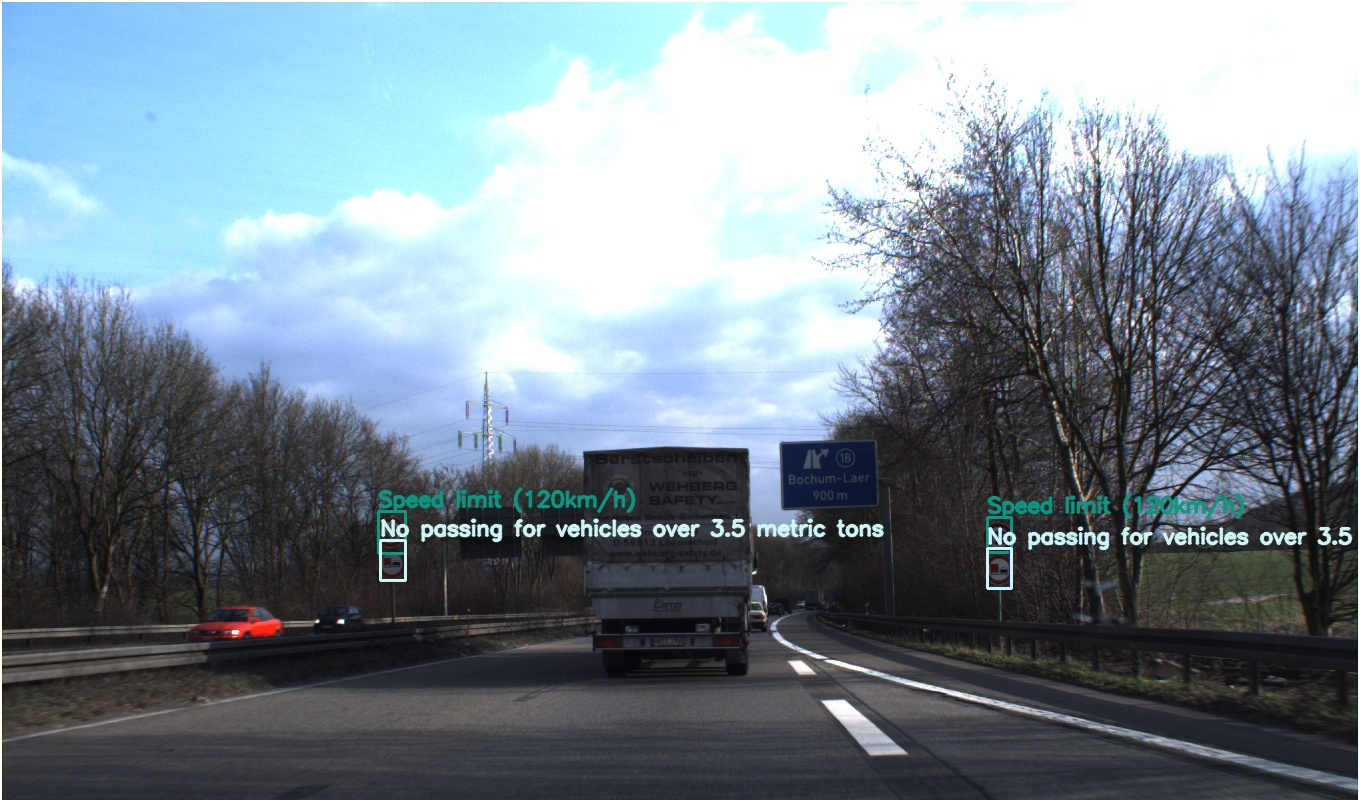End of no passing: (907, 414, 933, 440)
